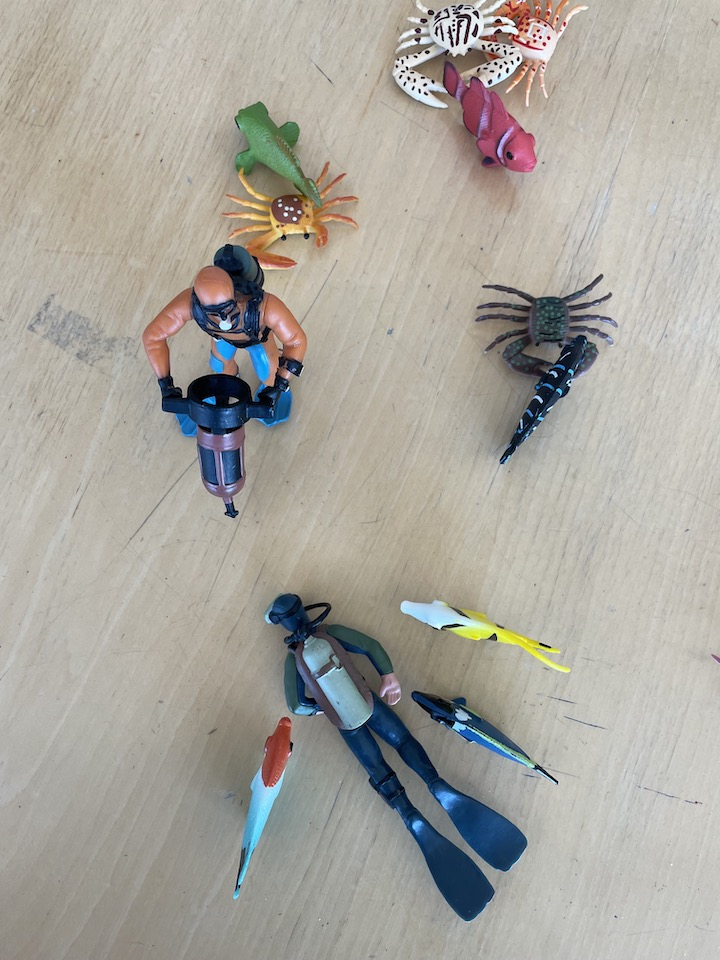crab: (217, 161, 360, 273), (389, 1, 523, 111), (479, 1, 591, 104)
danger: (396, 593, 579, 681)
diver: (262, 588, 534, 925), (137, 242, 310, 527)
fish: (409, 686, 562, 790), (497, 330, 593, 470), (230, 714, 298, 905), (436, 56, 541, 174), (228, 95, 324, 211)
